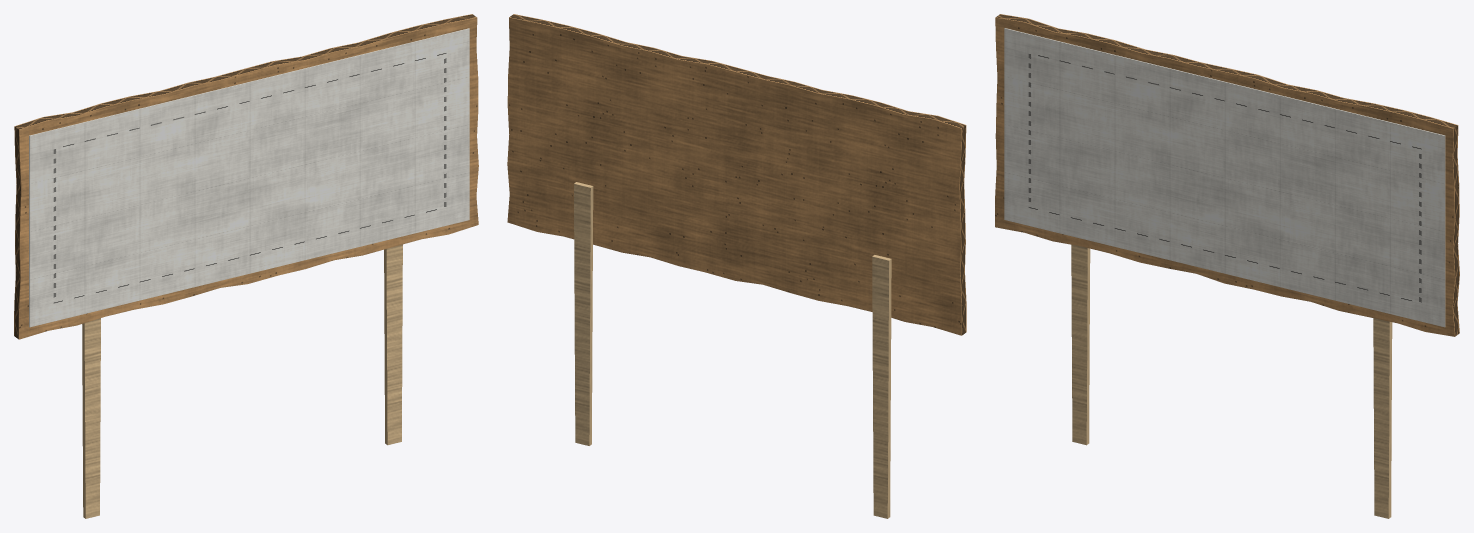
Rendered from title_board.gltf.
3 views of the same model, side by side, from view 1: azimuth 30°, elevation 25°; view 2: azimuth 150°, elevation 25°; view 3: azimuth 330°, elevation 25° (orthographic).
Visible parts, largest first — view 1: title_board; view 2: title_board; view 3: title_board.
Part boxes in pixels (x1,y1,x2,y2): title_board: (14, 14, 478, 518); title_board: (507, 14, 966, 518); title_board: (995, 14, 1459, 518).
Bounding box in the file's own units: 3.22 × 2.76 × 0.101.
Materials: 4 (4 with a texture image).
